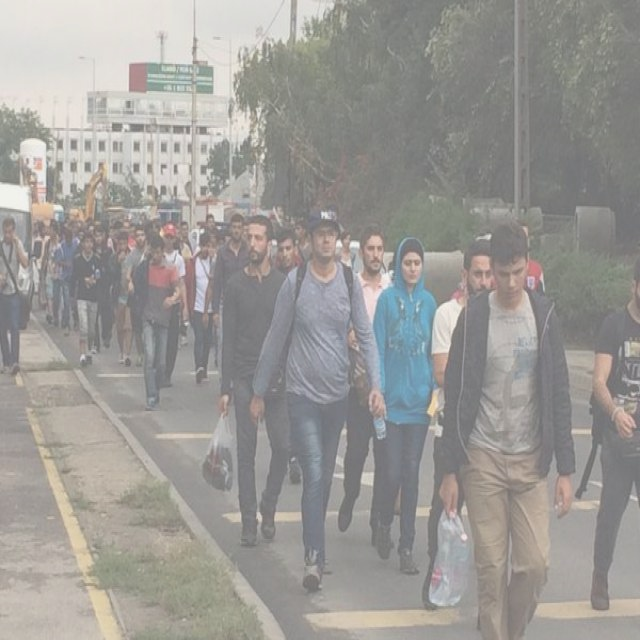pessoa: (422, 214, 580, 638), (243, 198, 389, 598), (420, 236, 494, 616), (366, 230, 445, 579), (214, 212, 294, 550), (335, 224, 396, 550), (588, 259, 639, 613), (126, 234, 182, 414), (210, 210, 252, 407), (24, 208, 74, 332), (66, 228, 105, 368), (184, 228, 217, 386), (0, 210, 30, 377), (160, 222, 190, 388), (74, 212, 232, 242), (449, 238, 492, 348), (106, 229, 136, 370), (120, 225, 148, 368), (95, 226, 118, 350), (518, 218, 550, 294), (272, 224, 301, 274), (291, 216, 316, 263), (334, 228, 358, 273), (90, 224, 106, 270)
